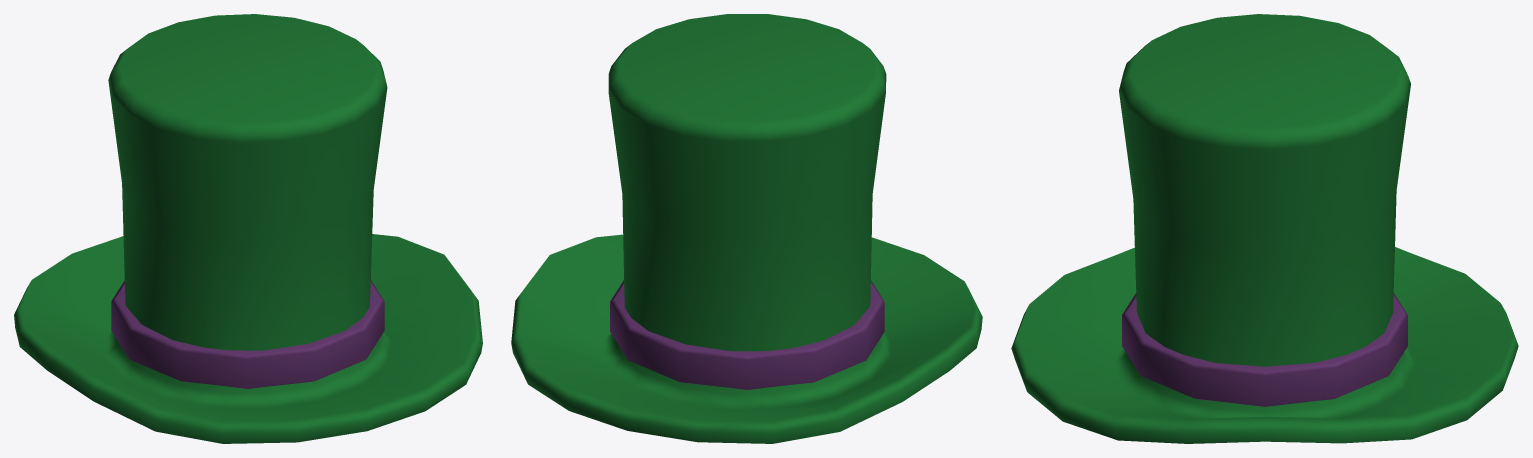
Rendered from Hat_Green.fbx.
3 views of the same model, side by side, from view 1: azimuth 30°, elevation 25°; view 2: azimuth 150°, elevation 25°; view 3: azimuth 270°, elevation 25° (orthographic). The views are drawn at different scales.
Visible parts, largest first — view 1: Hat_Green; view 2: Hat_Green; view 3: Hat_Green.
Part boxes in pixels (<box>): Hat_Green: <box>14,14,482,443</box>; Hat_Green: <box>511,14,982,443</box>; Hat_Green: <box>1011,14,1518,443</box>.
Size of the model in its own units: 2.26 by 1.52 by 2.34.
